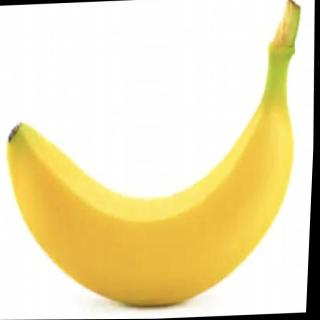banana: (0, 96, 304, 313)
